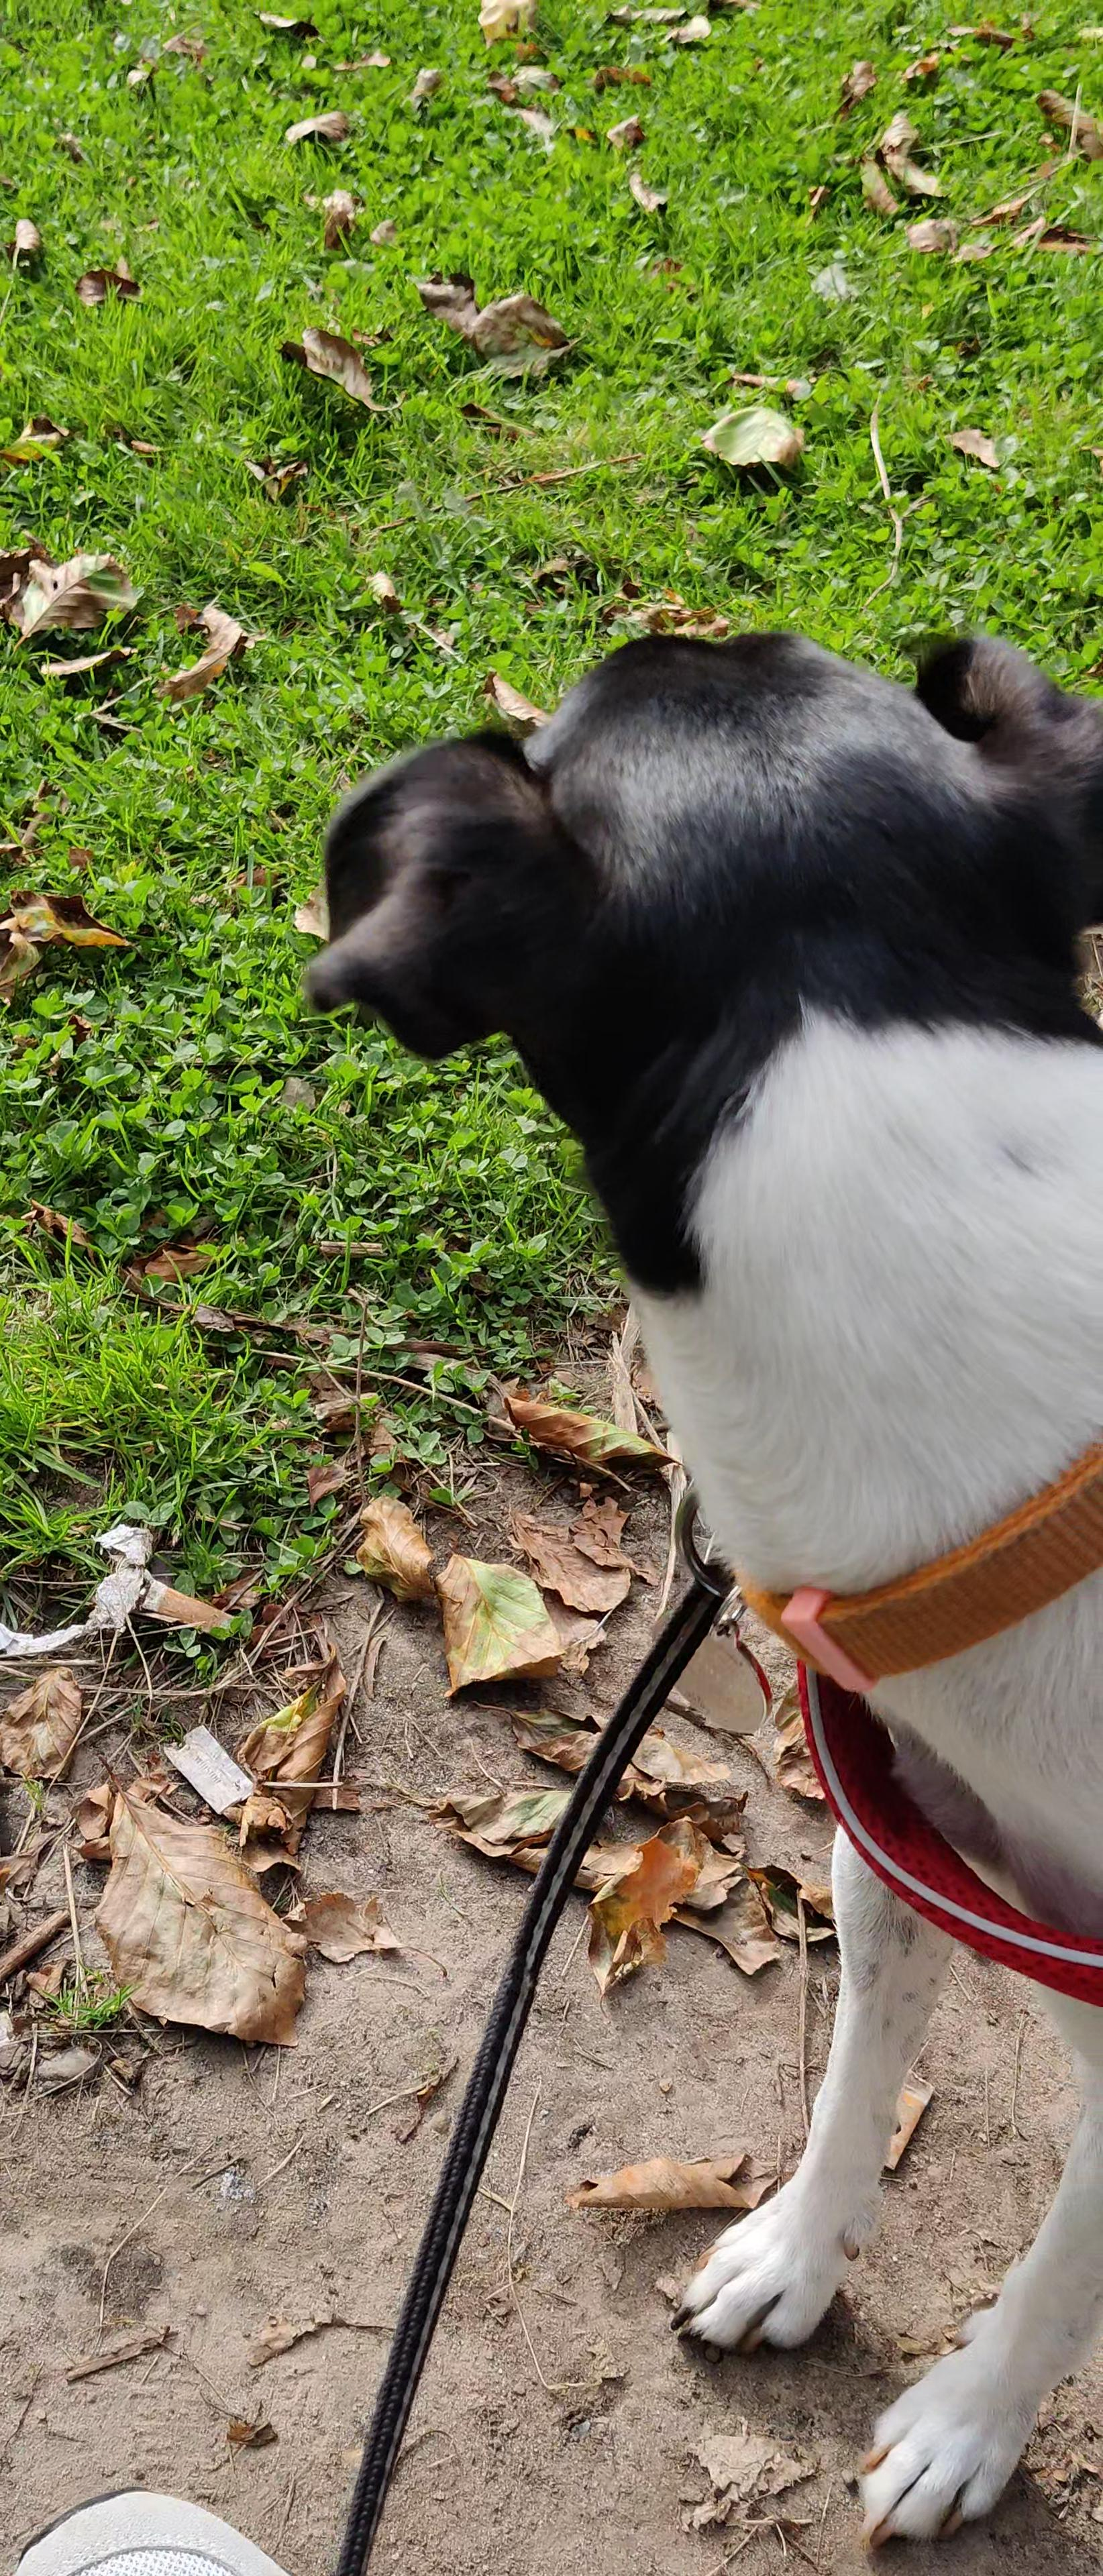Dog: (288, 621, 1103, 2543)
